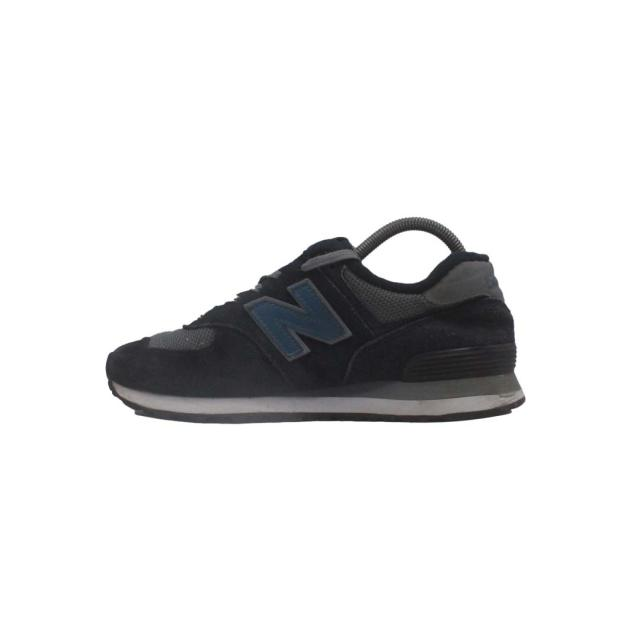heel: (449, 256, 518, 379)
midsole: (105, 372, 526, 418)
uppersole: (105, 235, 484, 389)
